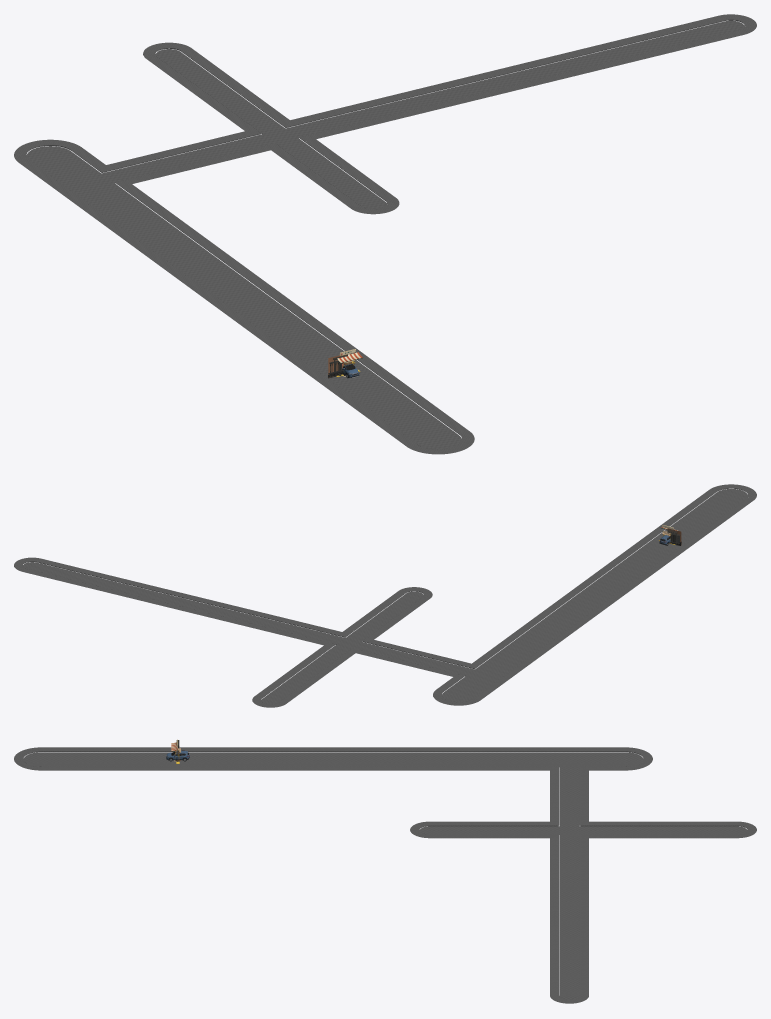
File: play_web.glb
The picture shows the model from 3 angles, top to bottom: view 1: azimuth 30°, elevation 25°; view 2: azimuth 150°, elevation 25°; view 3: azimuth 270°, elevation 25°; orthographic projection. The views are drawn at different scales.
Parts seen in each view (by area): view 1: Game_OriginalMaps_m04_play_alley_road_road, Game_OriginalMaps_m04_play_alley_sidewalk_sidewalk, Game_OriginalMaps_m04_play_alley_curb_curb; view 2: Game_OriginalMaps_m04_play_alley_road_road, Game_OriginalMaps_m04_play_alley_sidewalk_sidewalk, Game_OriginalMaps_m04_play_alley_curb_curb; view 3: Game_OriginalMaps_m04_play_alley_road_road, Game_OriginalMaps_m04_play_alley_sidewalk_sidewalk, Game_OriginalMaps_m04_play_alley_curb_curb.
Part boxes in pixels (box(x1,y1,x2,y2)): Game_OriginalMaps_m04_play_alley_road_road: box(26, 20, 744, 448); Game_OriginalMaps_m04_play_alley_sidewalk_sidewalk: box(14, 14, 756, 454); Game_OriginalMaps_m04_play_alley_curb_curb: box(25, 19, 745, 449); Game_OriginalMaps_m04_play_alley_road_road: box(23, 489, 747, 703); Game_OriginalMaps_m04_play_alley_sidewalk_sidewalk: box(14, 484, 756, 707); Game_OriginalMaps_m04_play_alley_curb_curb: box(22, 488, 748, 704); Game_OriginalMaps_m04_play_alley_road_road: box(23, 752, 747, 999); Game_OriginalMaps_m04_play_alley_sidewalk_sidewalk: box(14, 747, 756, 1003); Game_OriginalMaps_m04_play_alley_curb_curb: box(22, 751, 748, 999).
Bounding box in the file's own units: 10840 × 429 × 13280.
Materials: 132 (58 with a texture image).
